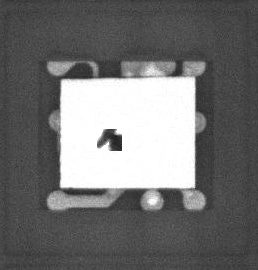DIE_INK: (97, 129, 124, 154)
